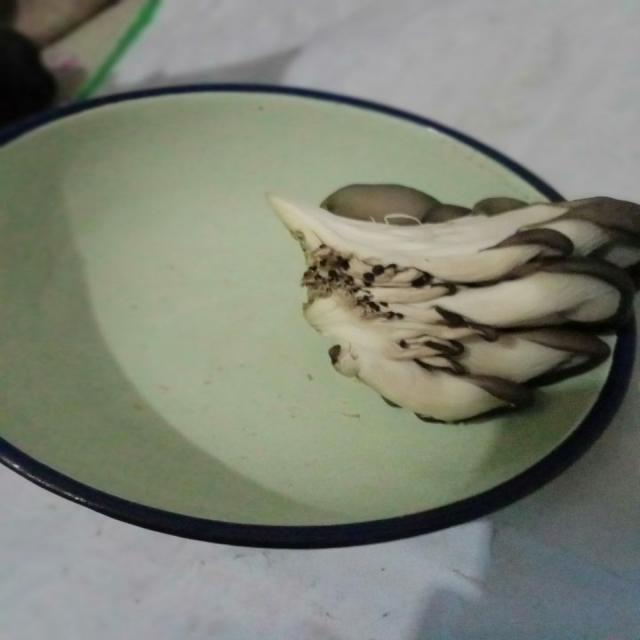Pleurotus ostreatus: (267, 179, 640, 422)
